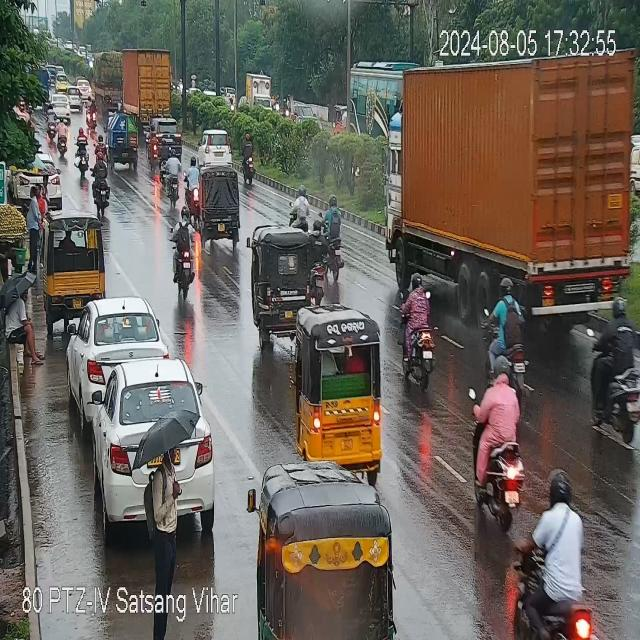2-wheelers: (516, 485, 590, 640), (468, 341, 523, 524), (585, 289, 640, 448), (488, 266, 531, 391), (397, 277, 439, 375), (173, 206, 195, 298), (326, 192, 344, 281), (310, 220, 329, 303), (91, 150, 108, 215), (289, 182, 310, 232), (184, 157, 199, 219), (242, 133, 256, 186), (167, 146, 179, 207), (74, 127, 89, 174), (14, 98, 38, 126), (157, 138, 168, 187), (43, 103, 56, 144), (146, 124, 158, 166), (58, 118, 68, 159), (91, 98, 98, 131), (86, 96, 92, 127), (96, 136, 106, 150), (488, 270, 493, 272)
auto: (247, 464, 400, 640), (291, 305, 386, 487), (250, 226, 314, 338), (43, 216, 108, 315), (200, 169, 242, 239)
bus: (348, 59, 412, 132)
car: (85, 362, 204, 519), (72, 302, 167, 409), (14, 156, 67, 204), (165, 110, 184, 148)
pedestrian: (148, 441, 184, 590), (2, 286, 48, 370), (26, 178, 44, 269)
truck: (378, 39, 630, 309), (122, 44, 172, 104), (107, 106, 138, 170), (90, 49, 125, 105), (246, 72, 273, 112)
